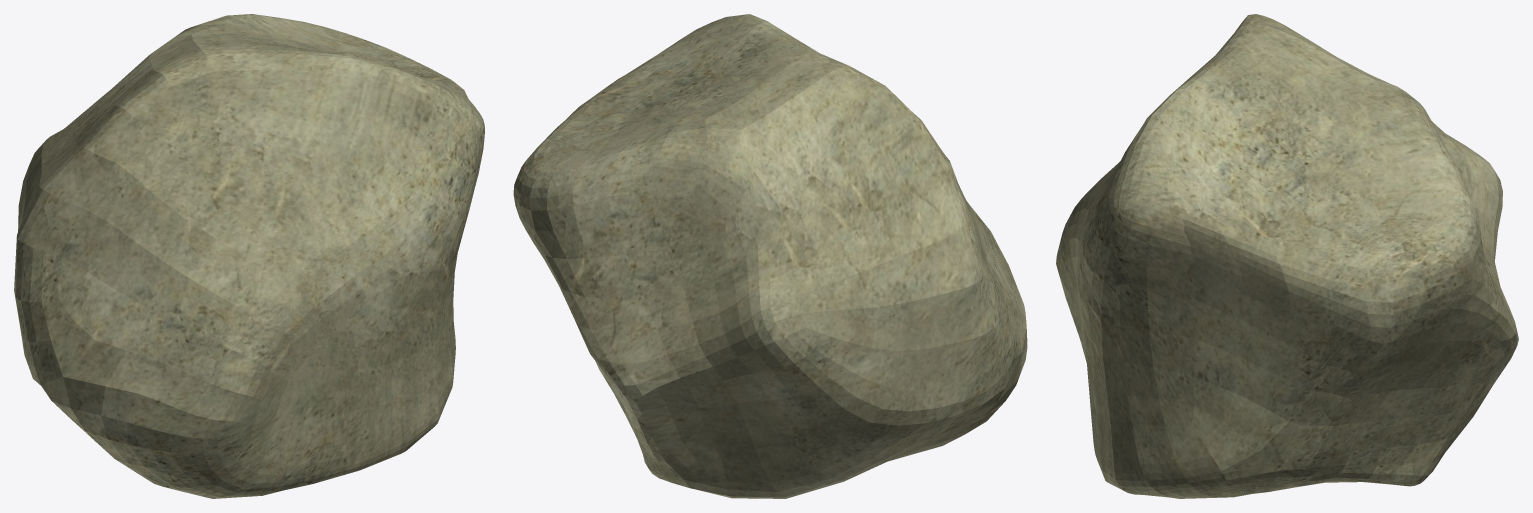
Rendered from piedra.fbx.
3 views of the same model, side by side, from view 1: azimuth 30°, elevation 25°; view 2: azimuth 150°, elevation 25°; view 3: azimuth 270°, elevation 25° (orthographic). The views are drawn at different scales.
Parts seen in each view (by area): view 1: piedra:Group1; view 2: piedra:Group1; view 3: piedra:Group1.
Part boxes in pixels (x1,y1,x2,y2): piedra:Group1: (14, 14, 484, 498); piedra:Group1: (513, 14, 1027, 498); piedra:Group1: (1056, 14, 1518, 498).
Bounding box in the file's own units: 1.79 × 1.55 × 1.56.
Materials: 1 (1 with a texture image).
